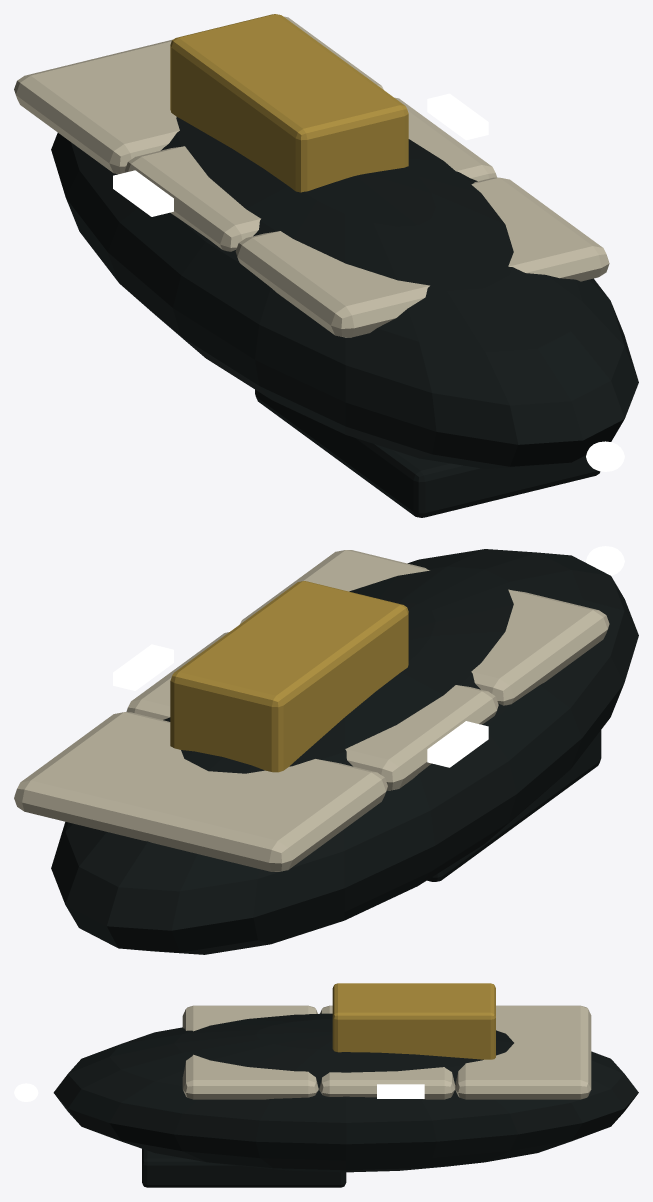
3 renders of one model, top to bottom at view 1: azimuth 30°, elevation 25°; view 2: azimuth 150°, elevation 25°; view 3: azimuth 270°, elevation 25°, orthographic. The views are drawn at different scales.
Visible parts, largest first — view 1: RIMWARD_HULL, RIMWARD_EMISSIVE, RIMWARD_ENGINE_GLOW; view 2: RIMWARD_HULL, RIMWARD_EMISSIVE, RIMWARD_ENGINE_GLOW; view 3: RIMWARD_HULL, RIMWARD_EMISSIVE, RIMWARD_ENGINE_GLOW.
Part boxes in pixels (box(x1,y1,x2,y2)): RIMWARD_HULL: box(14, 14, 638, 517); RIMWARD_EMISSIVE: box(113, 93, 488, 216); RIMWARD_ENGINE_GLOW: box(586, 441, 624, 471); RIMWARD_HULL: box(14, 549, 638, 954); RIMWARD_EMISSIVE: box(113, 644, 488, 767); RIMWARD_ENGINE_GLOW: box(586, 546, 624, 575); RIMWARD_HULL: box(53, 983, 638, 1187); RIMWARD_EMISSIVE: box(377, 1084, 424, 1098); RIMWARD_ENGINE_GLOW: box(14, 1083, 38, 1101).
Bounding box in the file's own units: 11.48 × 8.49 × 29.38.
